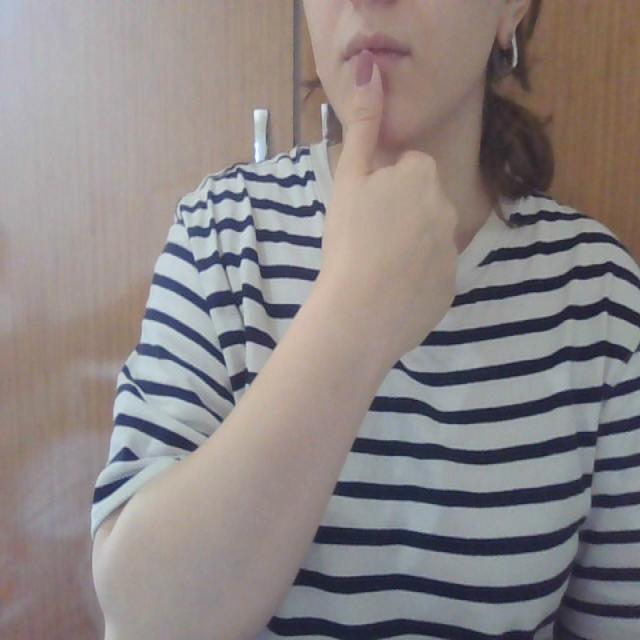Baba: (328, 8, 415, 152)
